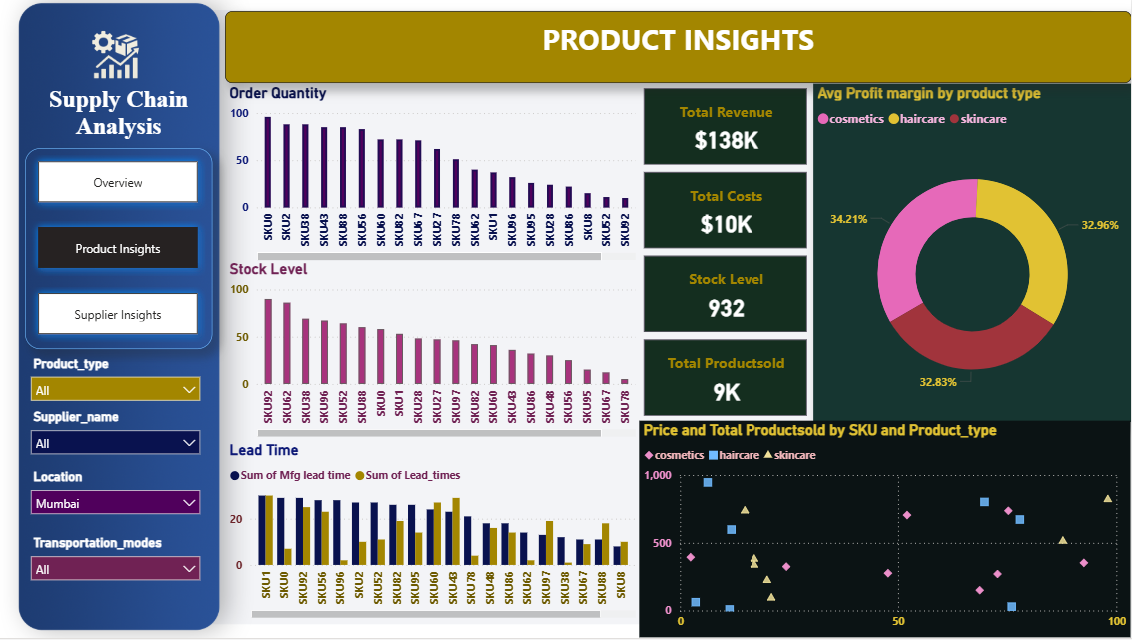

What the dashboard file says about the page in this screenshot:
{"tool":"powerbi","page":{"name":"Product Insights","canvas":[1280,720],"ordinal":1},"visuals":[{"type":"columnChart","title":"Order Quantity ","fields":{"Y":["Key Metrics.OrderQuantity"],"Category":["supply_chain_data.SKU"]},"box":[261.1,96.4,466,202.9],"z":0},{"type":"columnChart","title":"Stock Level ","fields":{"Category":["supply_chain_data.SKU"],"Y":["Key Metrics.Stock Level"]},"box":[261.1,295.3,466,202.9],"z":1000},{"type":"clusteredColumnChart","title":"Lead Time","fields":{"Category":["supply_chain_data.SKU"],"Y":["Sum(supply_chain_data.Mfg lead time)","Sum(supply_chain_data.Lead_times)"]},"box":[261.1,498.2,466,202.9],"z":2000},{"type":"donutChart","title":"Avg Profit margin by product type","fields":{"Y":["Key Metrics.Avg Profit Margin %"],"Category":["supply_chain_data.Product_type"]},"box":[922,96.4,357.6,379.7],"z":3000},{"type":"scatterChart","title":"Price and Total Productsold by SKU and Product_type","fields":{"Category":["supply_chain_data.SKU"],"X":["Sum(supply_chain_data.Price)"],"Y":["Key Metrics.Total Productsold"],"Series":["supply_chain_data.Product_type"]},"box":[727.2,476.1,552.4,243.1],"z":4000},{"type":"cardVisual","fields":{"Data":["Key Metrics.Total Revenue","Key Metrics.Total Costs","Key Metrics.Stock Level","Key Metrics.Total Productsold"]},"box":[727.2,96.4,194.9,379.7],"z":5000},{"type":"textbox","box":[261.1,16.1,1018.5,80.4],"z":6000},{"type":"pageNavigator","box":[38,169.8,210,225.6],"z":6001},{"type":"textbox","box":[38,93.8,210,76],"z":6002},{"type":"slicer","fields":{"Values":["supply_chain_data.Product_type"]},"box":[33.5,397.6,210,62.5],"z":6004},{"type":"slicer","fields":{"Values":["supply_chain_data.Transportation_modes"]},"box":[33.5,598.7,210,80.4],"z":6007},{"type":"slicer","fields":{"Values":["supply_chain_data.Supplier_name"]},"box":[33.5,457.9,210,67],"z":6008},{"type":"slicer","fields":{"Values":["supply_chain_data.Location"]},"box":[33.5,525,210,73.7],"z":6009},{"type":"image","box":[82.7,0,113.9,118.4],"z":6010}]}

Visuals, with their boxes in screenshot pixels (x1, y1, x2, y2), scaled from the page's 1280x720 canvas onto the 1132x640 screenshot:
"Order Quantity " columnChart: left=231, top=86, right=643, bottom=266
"Stock Level " columnChart: left=231, top=262, right=643, bottom=443
"Lead Time" clusteredColumnChart: left=231, top=443, right=643, bottom=623
"Avg Profit margin by product type" donutChart: left=815, top=86, right=1131, bottom=423
"Price and Total Productsold by SKU and Product_type" scatterChart: left=643, top=423, right=1131, bottom=639
cardVisual - Key Metrics.Total Revenue x Key Metrics.Total Costs: left=643, top=86, right=815, bottom=423
textbox: left=231, top=14, right=1131, bottom=86
pageNavigator: left=34, top=151, right=219, bottom=351
textbox: left=34, top=83, right=219, bottom=151
slicer - supply_chain_data.Product_type: left=30, top=353, right=215, bottom=409
slicer - supply_chain_data.Transportation_modes: left=30, top=532, right=215, bottom=604
slicer - supply_chain_data.Supplier_name: left=30, top=407, right=215, bottom=467
slicer - supply_chain_data.Location: left=30, top=467, right=215, bottom=532
image: left=73, top=0, right=174, bottom=105
